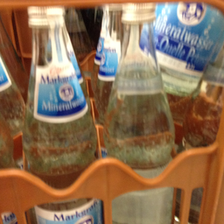water: (21, 6, 100, 224), (102, 3, 175, 224)
